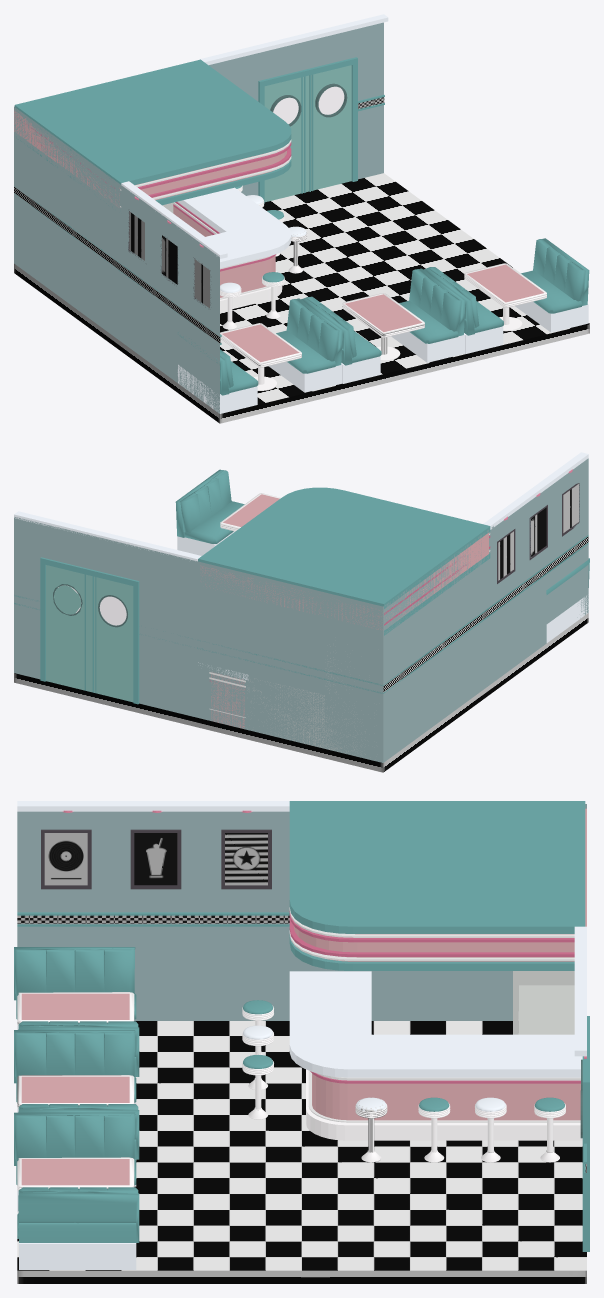
The model's file is cafeteria-hero.glb.
3 renders of one model, top to bottom at view 1: azimuth 30°, elevation 25°; view 2: azimuth 150°, elevation 25°; view 3: azimuth 270°, elevation 25°, orthographic. The views are drawn at different scales.
Visible parts, largest first — view 1: Cubo, Cubo.013, Cubo.008, Cubo.065, Cubo.060, Cubo.061, Cubo.064, Cilindro.007; view 2: Cubo, Cubo.013, Cubo.008, Cubo.061, Cubo.060, Cubo.064; view 3: Cubo, Cubo.013, Cubo.065, Cubo.008, Cubo.060, Cubo.061, Cubo.064, Cilindro.007.
Part boxes in pixels (left/top/right/bottom): Cubo: left=14, top=14, right=589, bottom=413; Cubo.013: left=14, top=173, right=589, bottom=423; Cubo.008: left=14, top=97, right=384, bottom=343; Cubo.065: left=120, top=139, right=291, bottom=299; Cubo.060: left=194, top=259, right=209, bottom=308; Cubo.061: left=162, top=235, right=177, bottom=284; Cubo.064: left=129, top=211, right=144, bottom=260; Cilindro.007: left=237, top=226, right=424, bottom=366; Cubo: left=14, top=452, right=589, bottom=762; Cubo.013: left=14, top=613, right=588, bottom=772; Cubo.008: left=383, top=536, right=588, bottom=692; Cubo.061: left=531, top=507, right=546, bottom=556; Cubo.060: left=563, top=484, right=578, bottom=532; Cubo.064: left=498, top=531, right=513, bottom=580; Cubo: left=14, top=801, right=589, bottom=1269; Cubo.013: left=17, top=1021, right=586, bottom=1283; Cubo.065: left=289, top=907, right=580, bottom=1122; Cubo.008: left=17, top=915, right=586, bottom=1172; Cubo.060: left=44, top=833, right=87, bottom=885; Cubo.061: left=134, top=833, right=177, bottom=885; Cubo.064: left=225, top=833, right=267, bottom=885; Cilindro.007: left=17, top=1022, right=553, bottom=1162.
Bounding box in the file's own units: 0.5633 × 0.2443 × 0.5472.
Materials: 8 (8 with a texture image).
